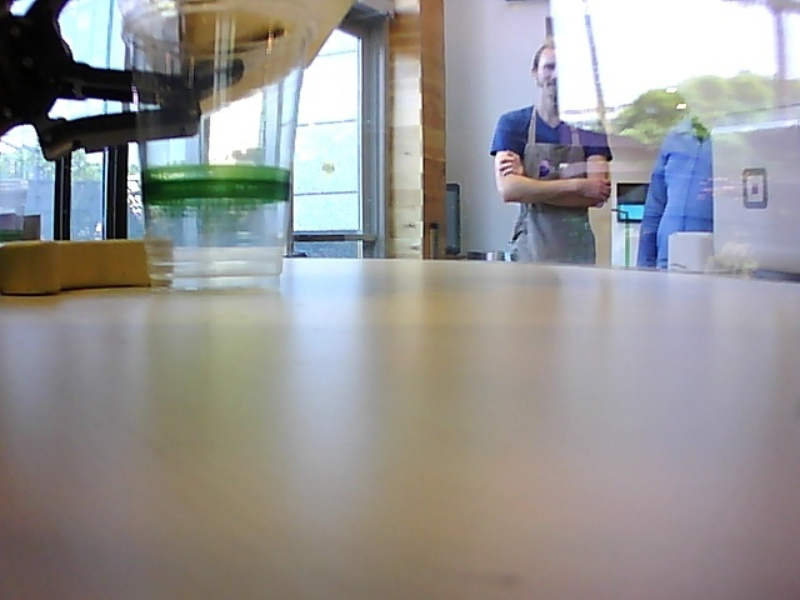cup: (114, 5, 317, 299)
